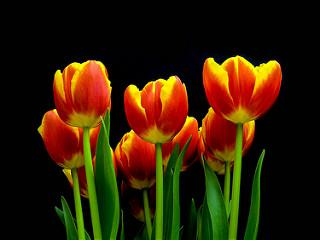tulip: (203, 57, 281, 122), (125, 75, 189, 143), (54, 59, 113, 128)
